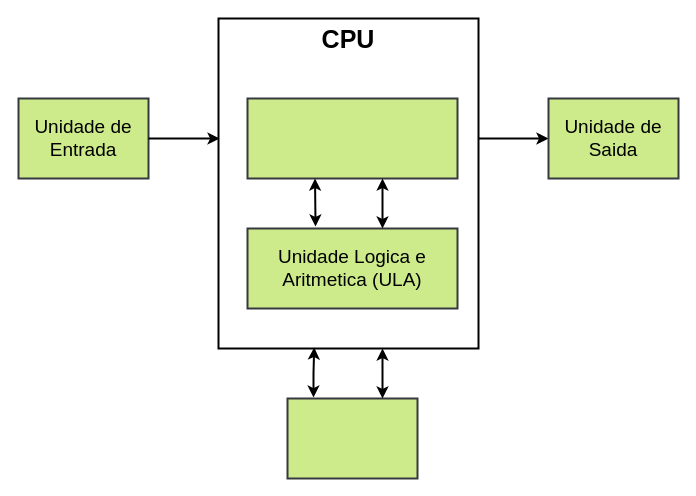
Some shapes in this 696 by 496 pixel diagram are drawn without their labels. Each missing label, with the centre of its shape:
"Unidade de Controle (UC)" goes at pixel 352 138.
"Unidade de Memoria" goes at pixel 352 438.
